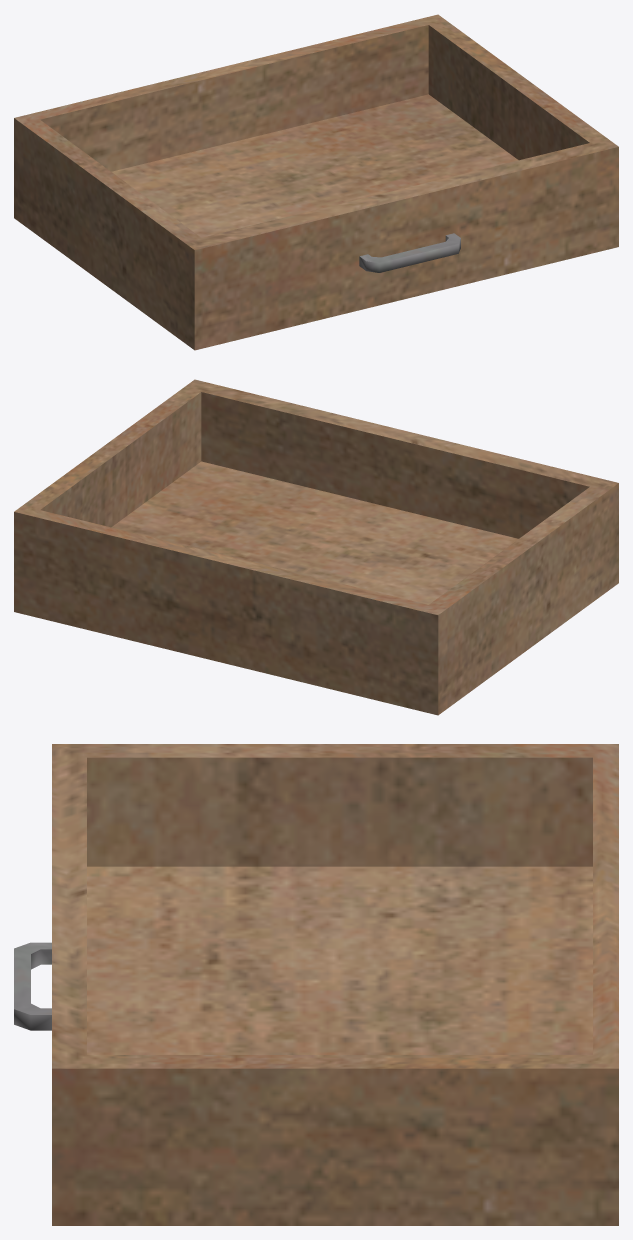
File: Prop_Cupboard4.glb
3 views of the same model, one above another, from view 1: azimuth 30°, elevation 25°; view 2: azimuth 150°, elevation 25°; view 3: azimuth 270°, elevation 25° (orthographic). The views are drawn at different scales.
Parts seen in each view (by area): view 1: xiutz_cupboard4; view 2: xiutz_cupboard4; view 3: xiutz_cupboard4.
Boxes of the visible parts, bbox=[...] form: xiutz_cupboard4: bbox=[14, 14, 618, 350]; xiutz_cupboard4: bbox=[14, 379, 618, 715]; xiutz_cupboard4: bbox=[14, 744, 618, 1225].
Size of the model in its own units: 1.21 by 0.273 by 0.9526.
1 material, 1 textured.
